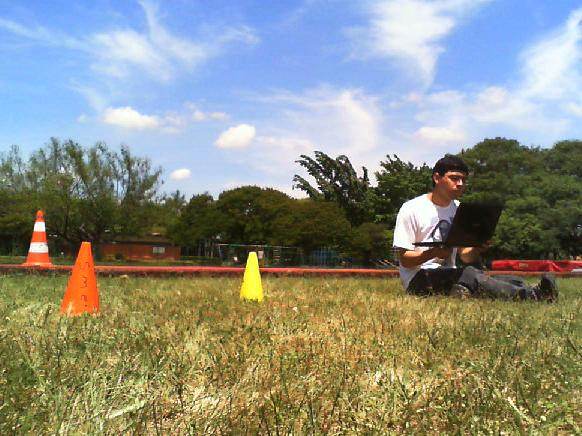0 cone: (60, 242, 100, 314), (22, 211, 52, 267), (240, 252, 264, 302)
